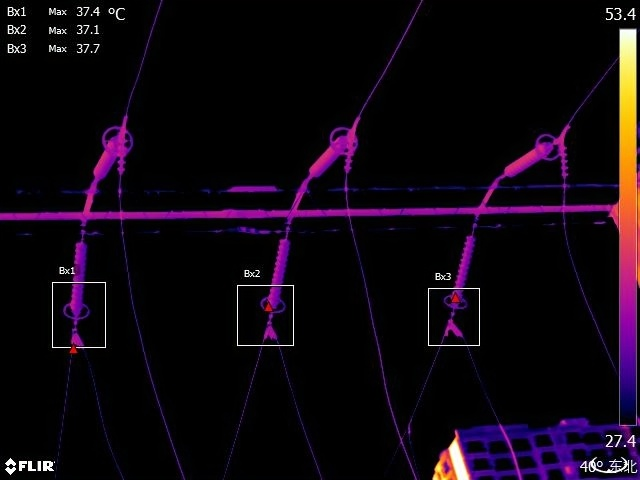clamp: (436, 316, 467, 344), (65, 329, 88, 355), (262, 322, 286, 344)
insulator: (439, 226, 480, 310), (60, 239, 96, 328), (255, 235, 293, 316), (502, 135, 561, 176), (89, 126, 130, 181), (303, 132, 350, 178)
tube: (113, 135, 134, 177), (558, 135, 575, 186), (341, 132, 359, 177)
